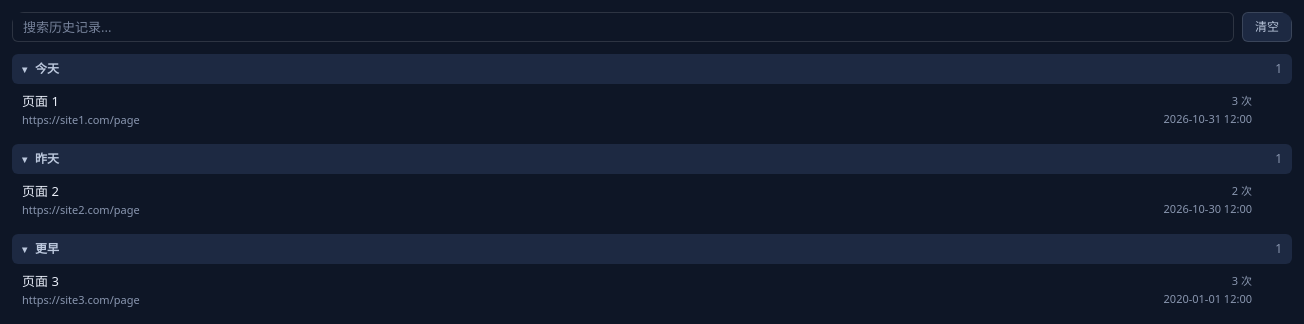
HistoryDialog：搜索 › 输入防抖 300ms 后调 search_history {query,limit:200}
This screenshot has width=1304, height=324.
Step 1. Type "rust" into the field with class "history-search" → (623, 27), box [12,12,1234,42]
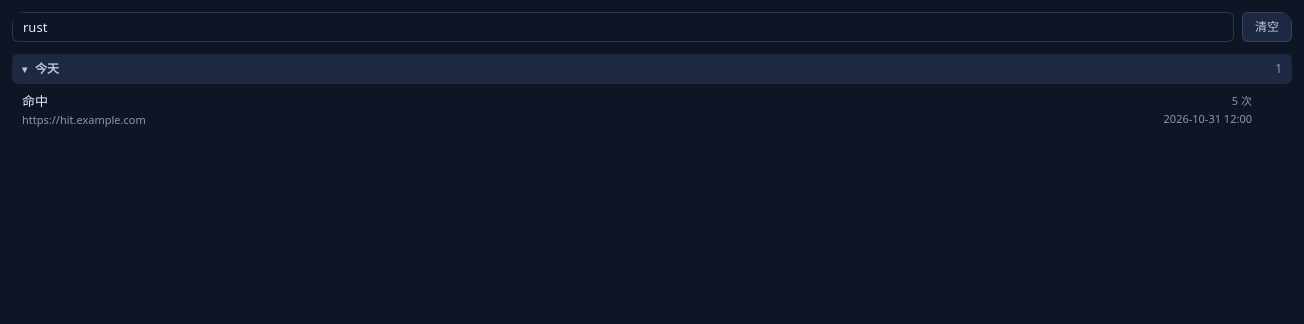
Expected: the text with class "history-title" reads "命中", [22,92,48,110]
